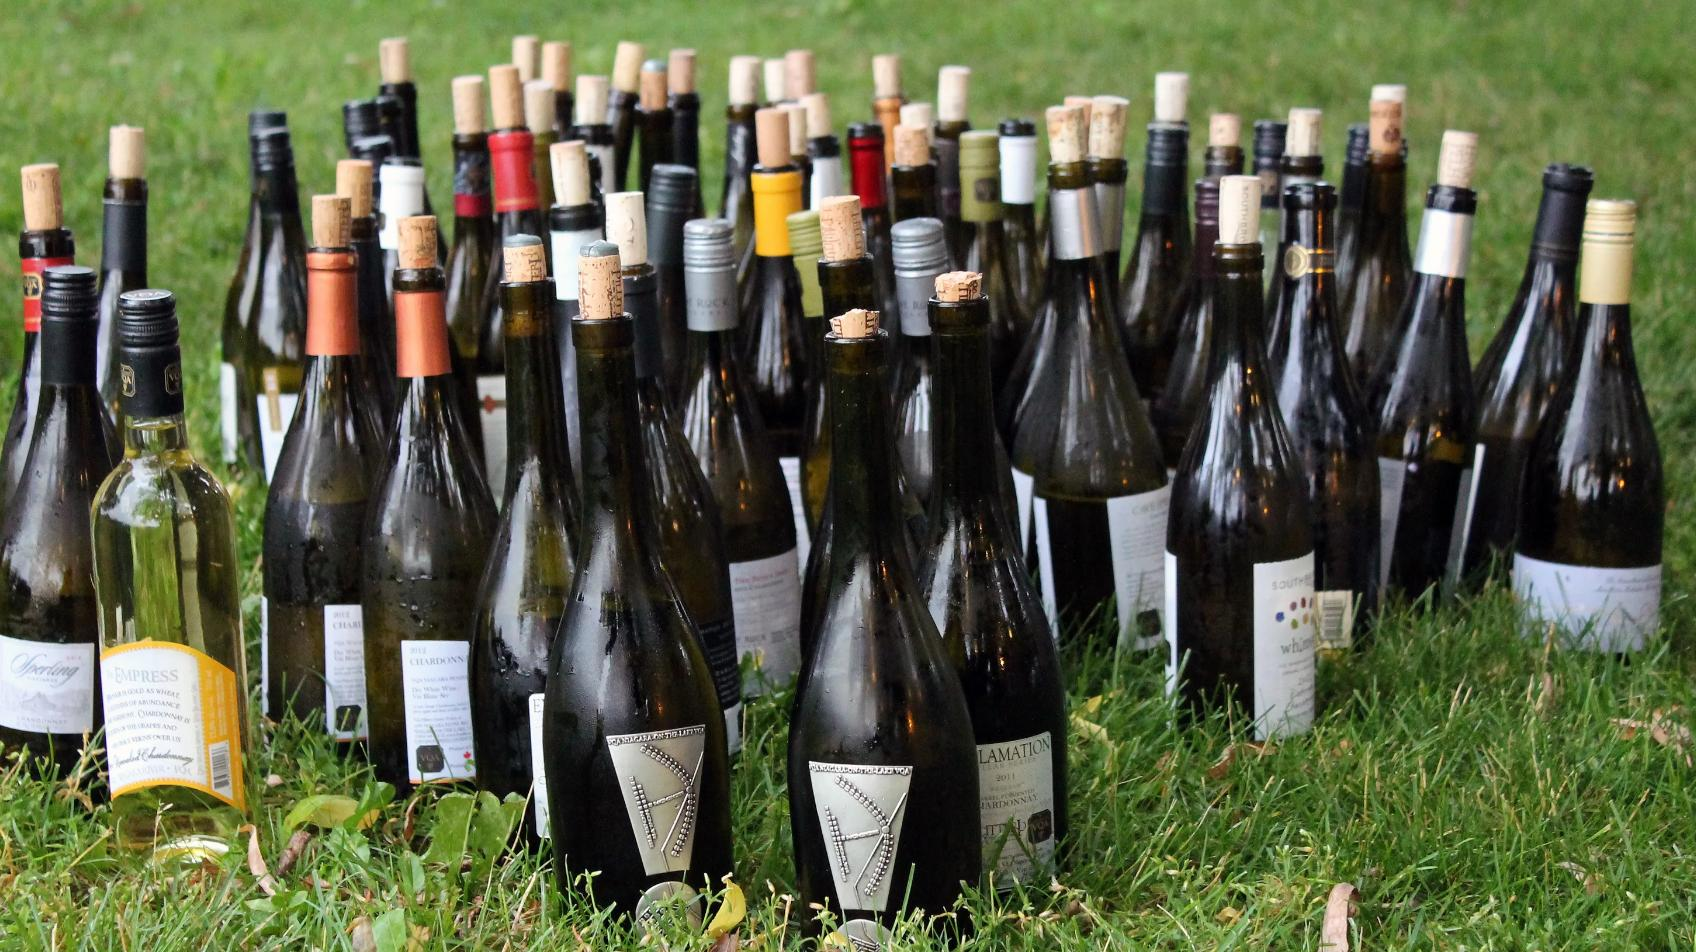wine bottle: (786, 254, 984, 951), (785, 329, 984, 947), (542, 313, 736, 939), (87, 290, 259, 896), (914, 294, 1073, 912), (997, 160, 1172, 710), (1167, 241, 1319, 763), (1501, 199, 1665, 670), (360, 267, 500, 815), (466, 277, 582, 867), (674, 221, 810, 714), (260, 246, 386, 767), (622, 263, 748, 767), (1462, 163, 1596, 606), (0, 262, 113, 784), (1263, 182, 1380, 680), (1364, 185, 1481, 629), (218, 108, 308, 491), (740, 161, 813, 580), (475, 122, 540, 508), (1147, 176, 1225, 498), (0, 228, 78, 523), (1116, 118, 1194, 410), (1335, 147, 1414, 403), (892, 219, 955, 505), (441, 131, 495, 464), (94, 176, 148, 457)
wine label: (100, 637, 245, 813), (810, 759, 914, 912), (1512, 552, 1662, 655), (606, 725, 706, 876), (977, 731, 1057, 891), (1253, 552, 1315, 741), (398, 639, 474, 783), (730, 548, 803, 698), (1109, 486, 1171, 655), (0, 636, 98, 739), (324, 604, 369, 743), (704, 615, 747, 762), (257, 367, 302, 487), (1380, 450, 1409, 616), (1458, 442, 1489, 580), (479, 374, 509, 508), (782, 458, 813, 577), (1037, 498, 1061, 646), (530, 694, 549, 838), (1012, 466, 1037, 564), (1166, 552, 1179, 706), (226, 364, 238, 463)
